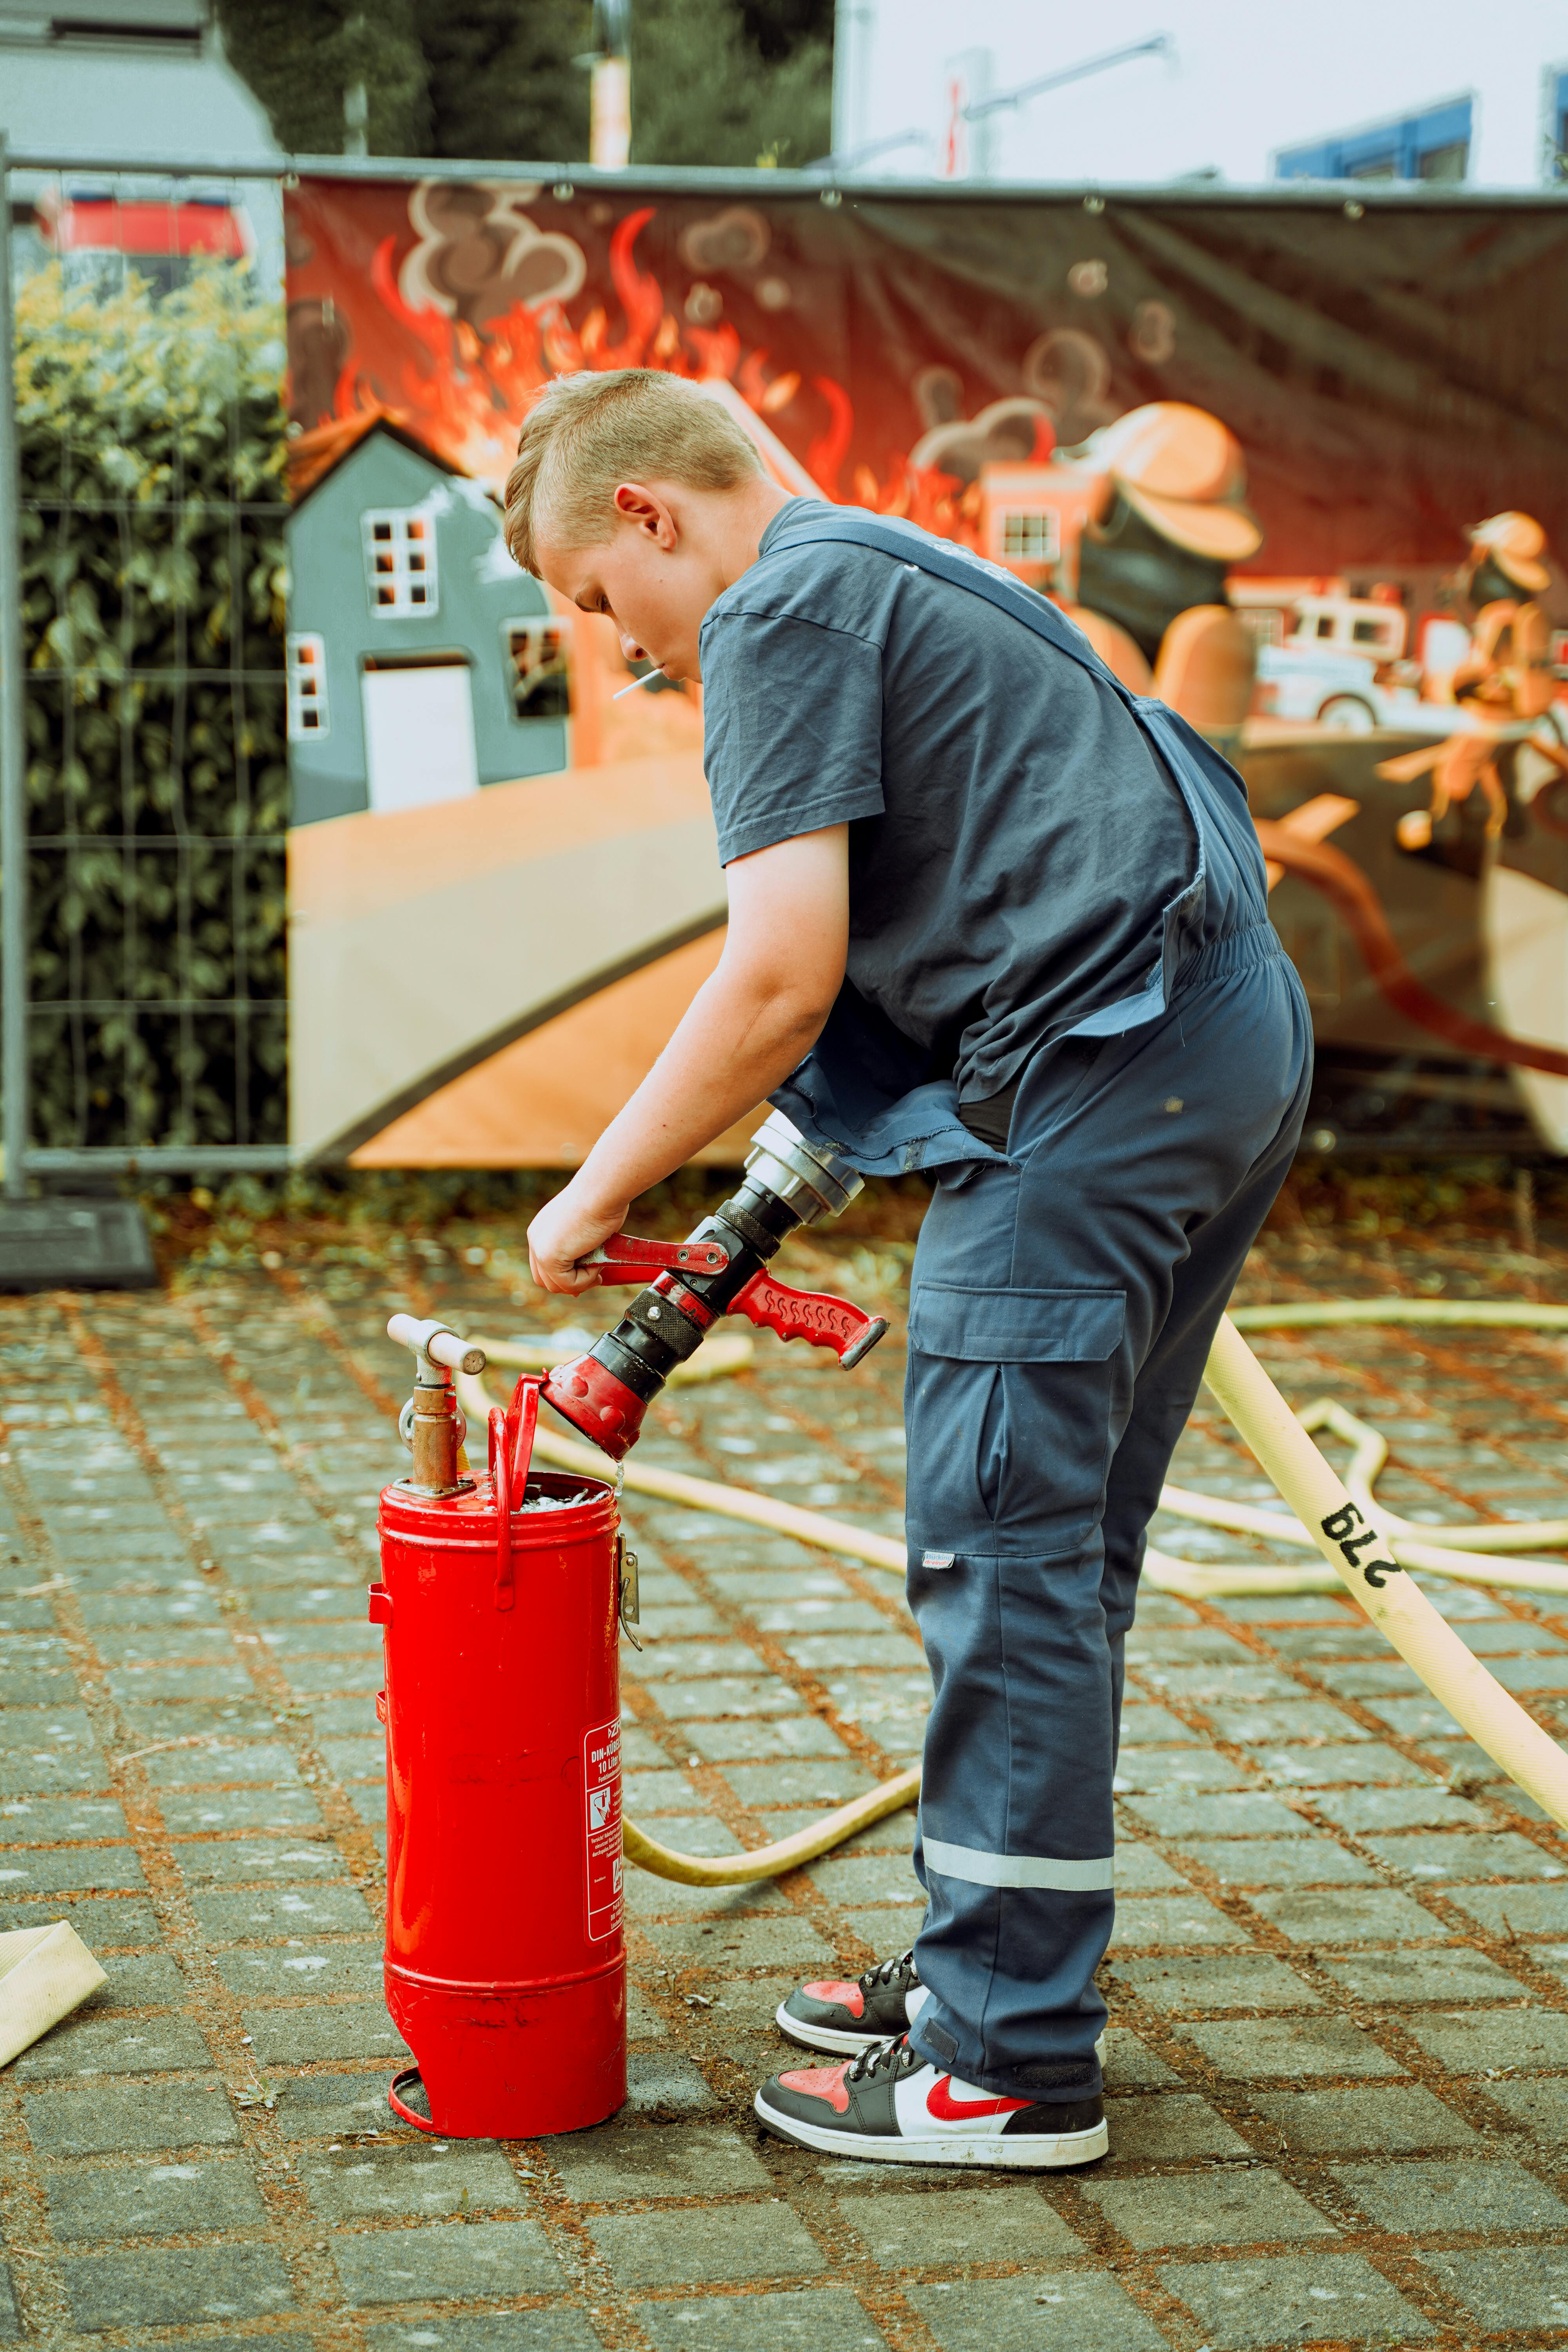extintor: (354, 1297, 647, 2158)
